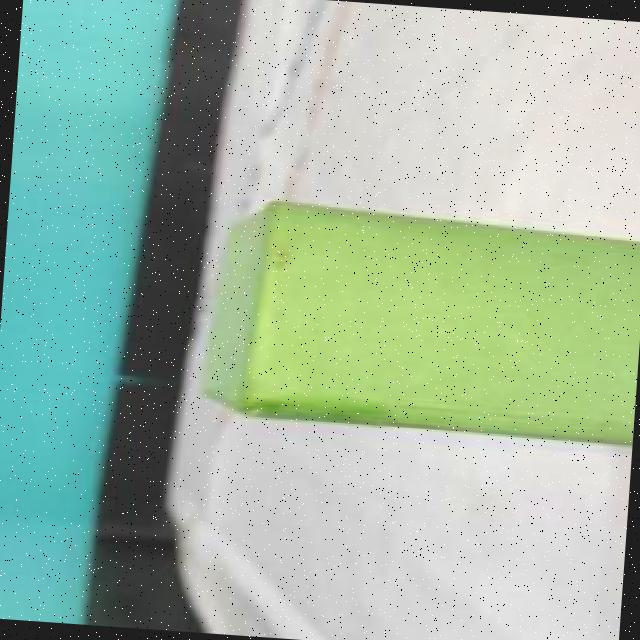greenbox: (186, 187, 640, 446)
